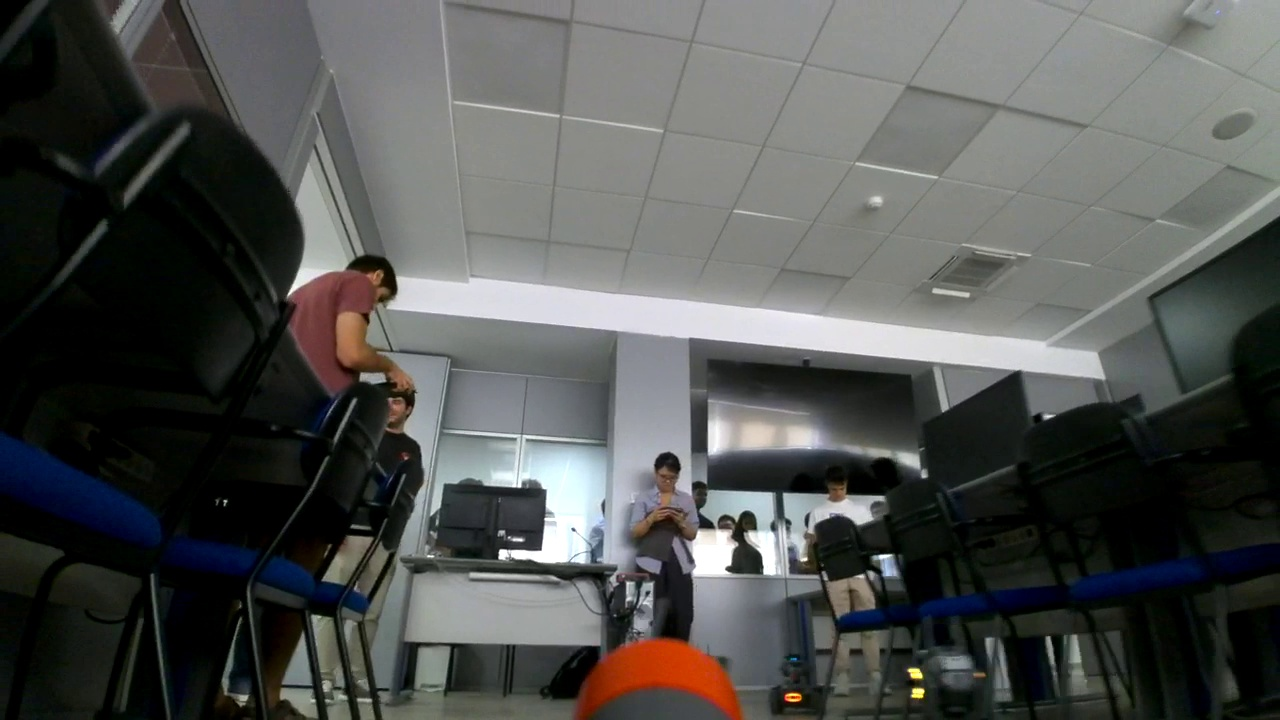robot: (904, 620, 989, 720), (769, 642, 826, 714)
